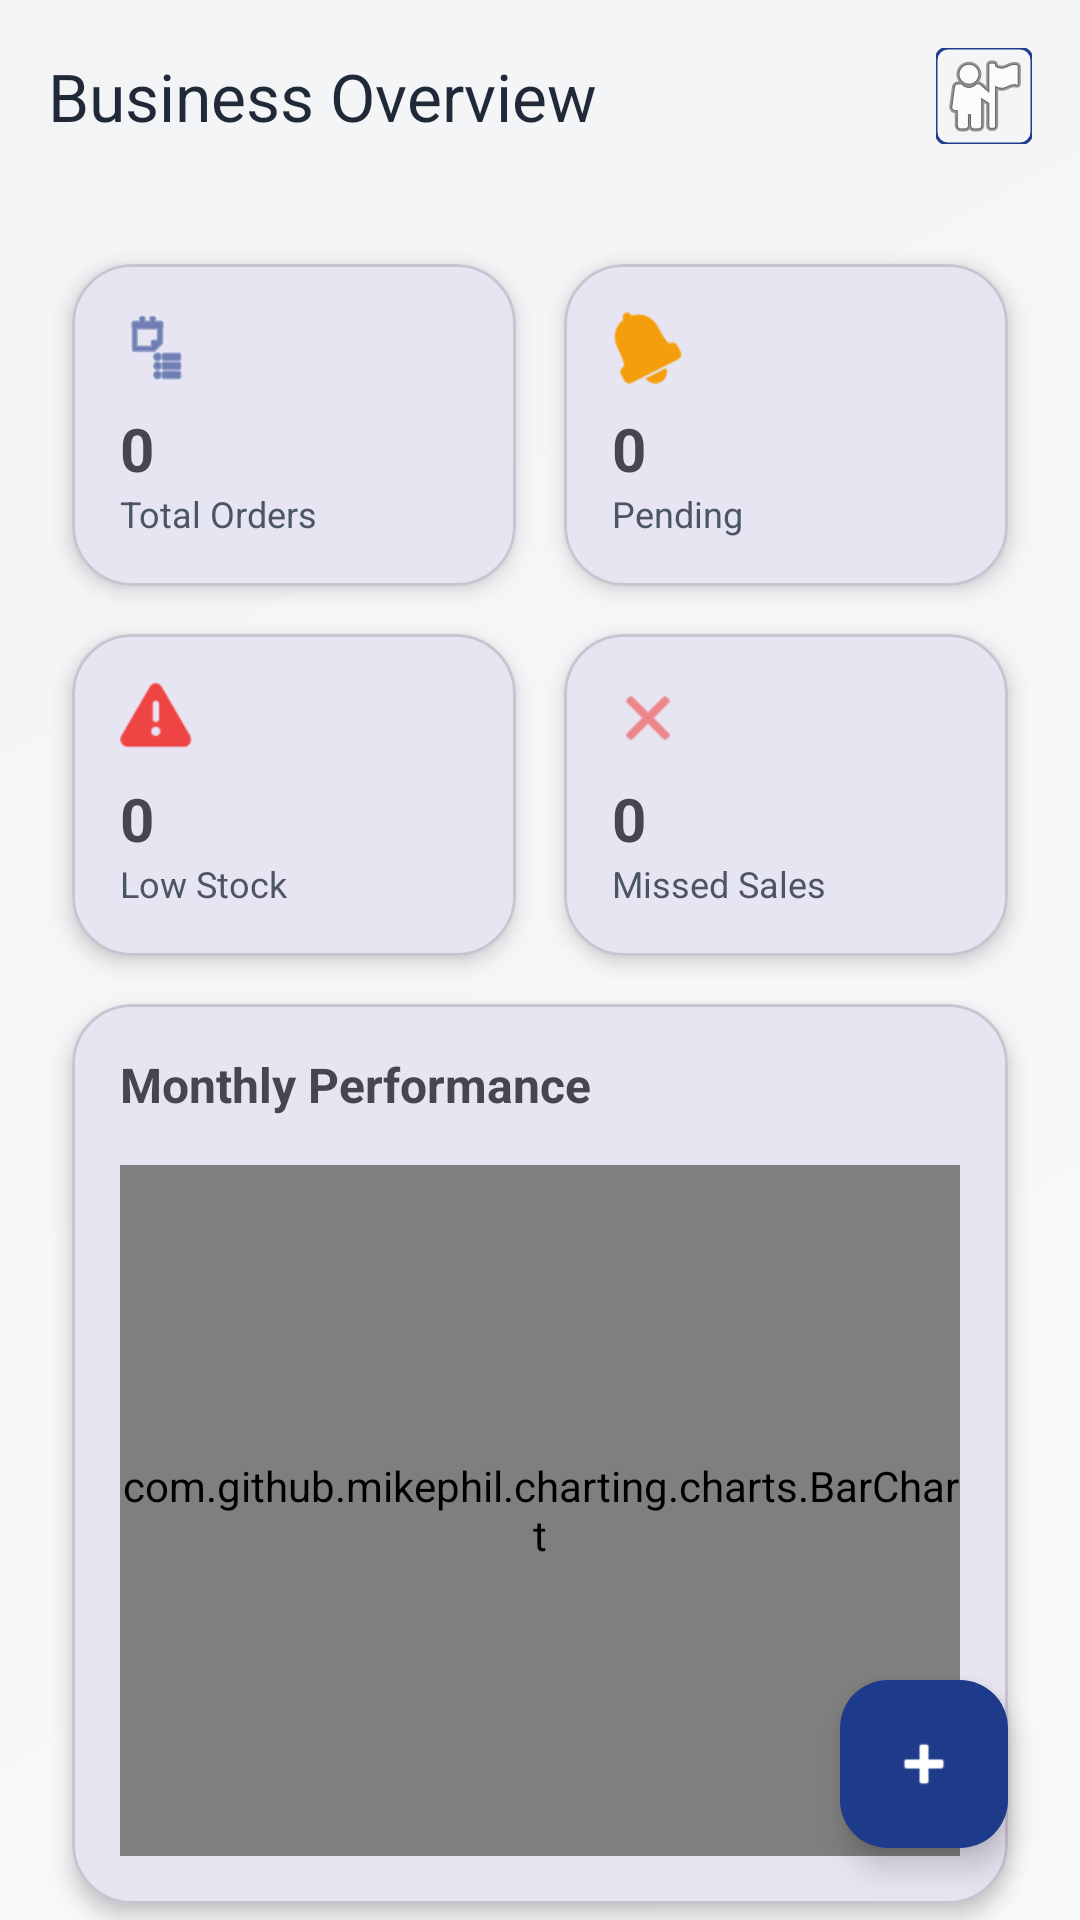

Icon click points for this 1080 x 1920 phone screenshot, format (x,y):
agenda: (156,348)
alert: (156,715)
close clear cancel: (648,718)
myplaces: (984,96)
popup reminder: (648,348)
Quick Add Order: (924,1764)
